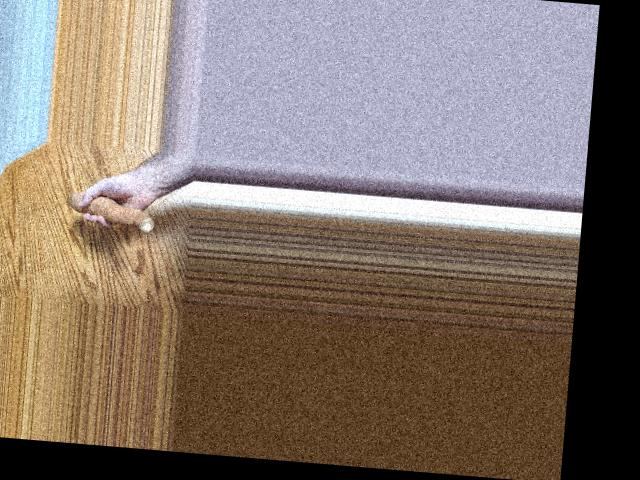sweet_potato: (74, 187, 163, 229)
